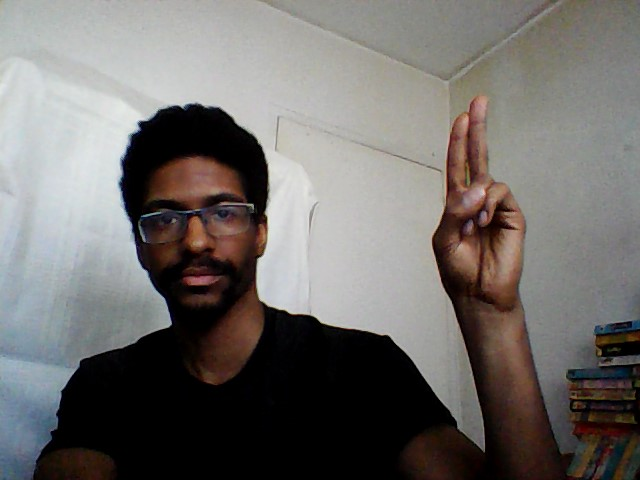u: (429, 91, 531, 312)
